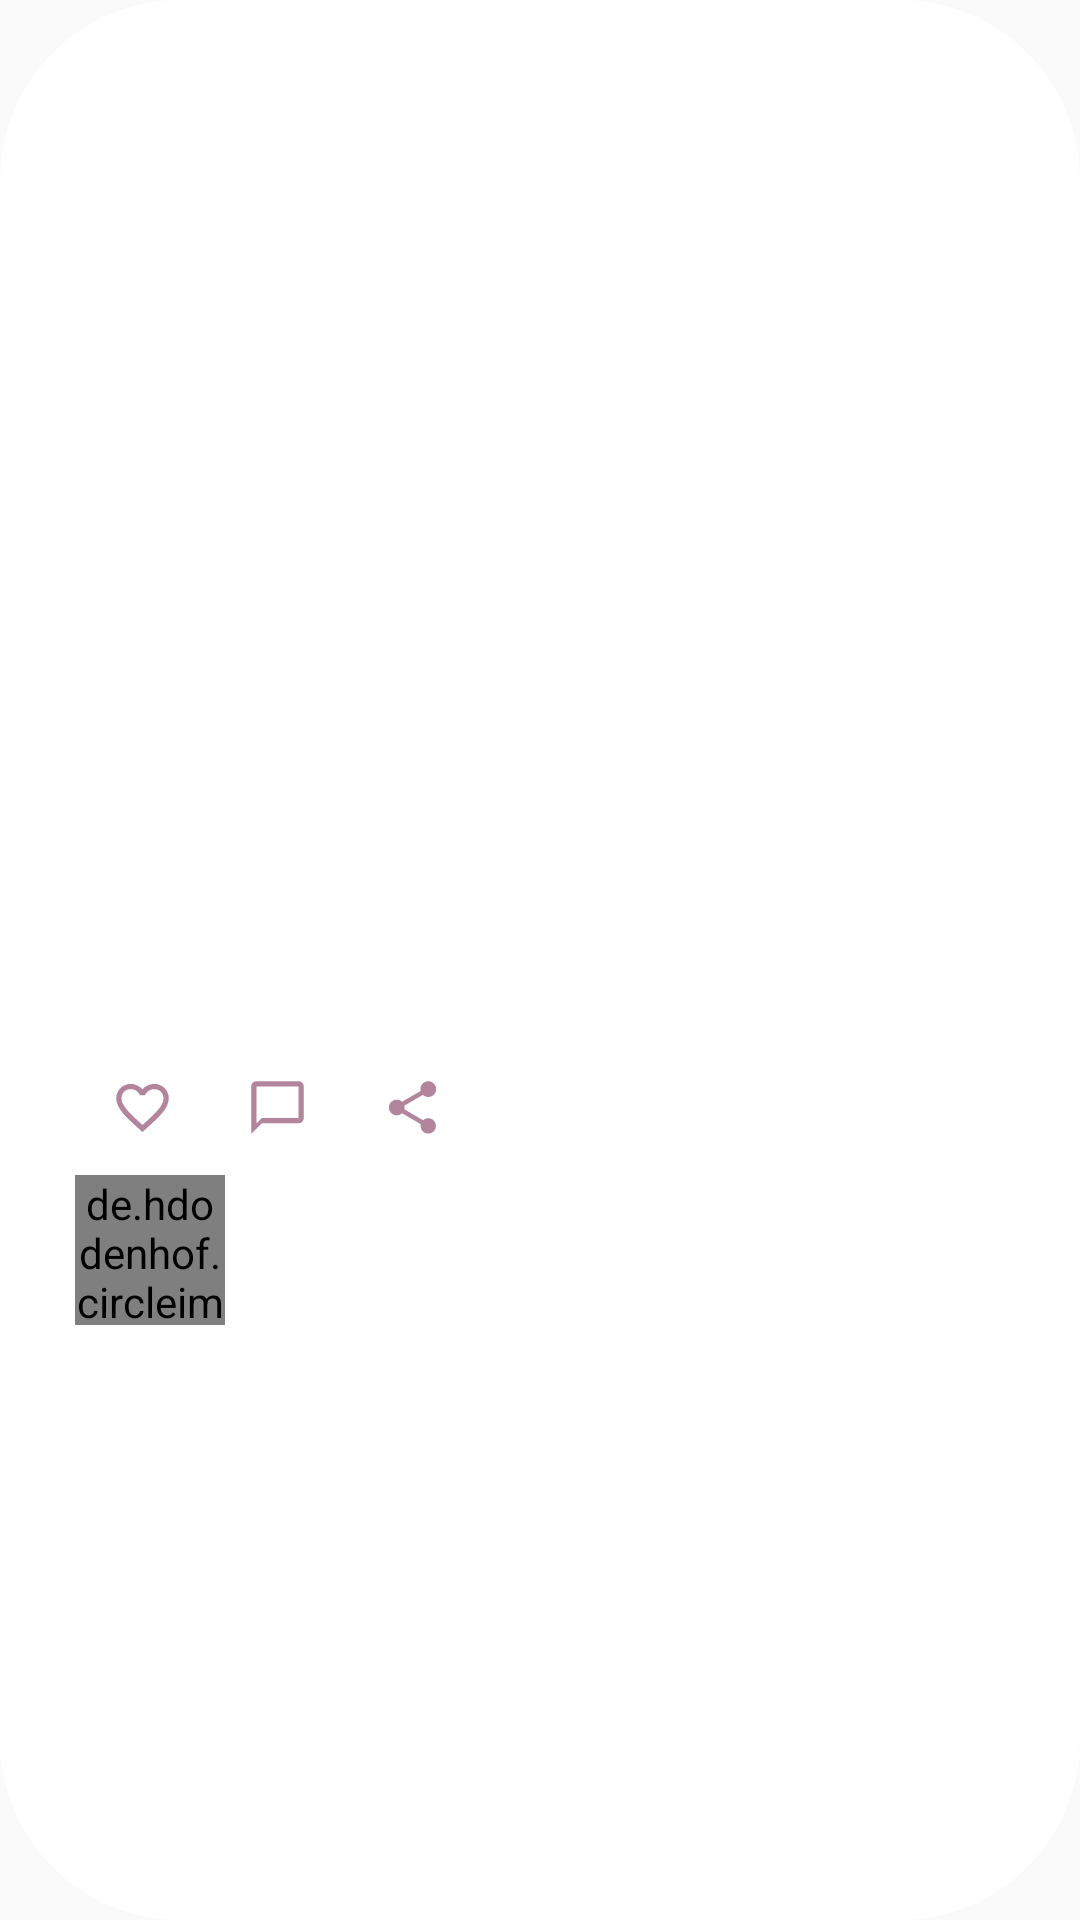

Point at icon controls on the screen. Image size 1080px×1920px, points as (x,y).
comment border: (277,1107)
like border: (142,1108)
share: (412,1107)
